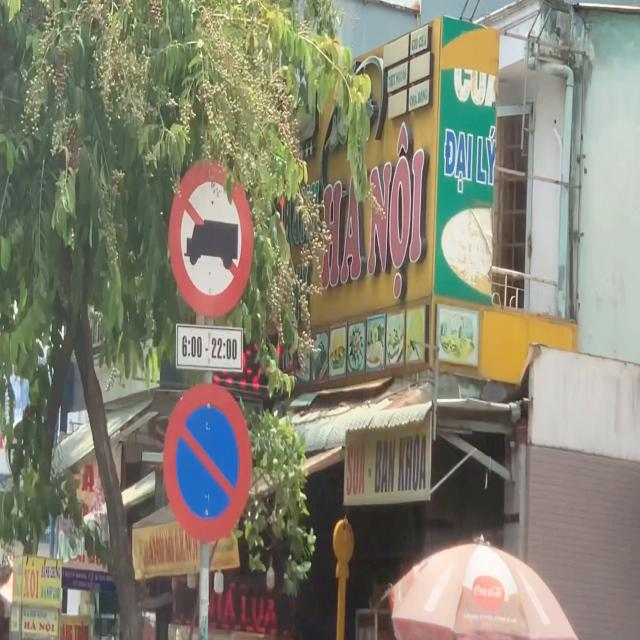Cam con lai: (171, 162, 259, 312)
Cam do: (160, 384, 252, 542)
